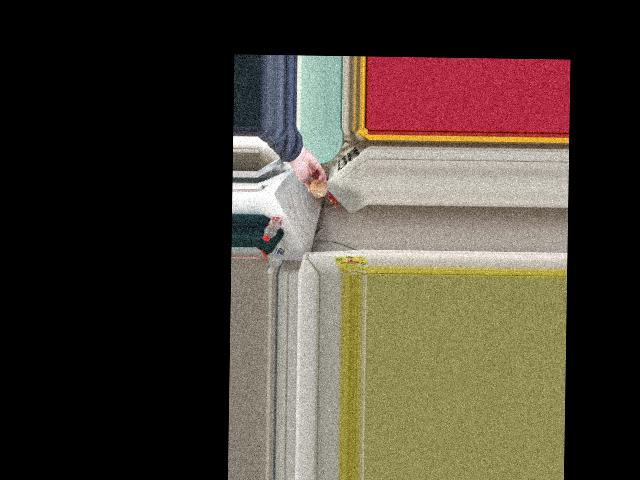sweet_potato: (309, 176, 325, 197)
